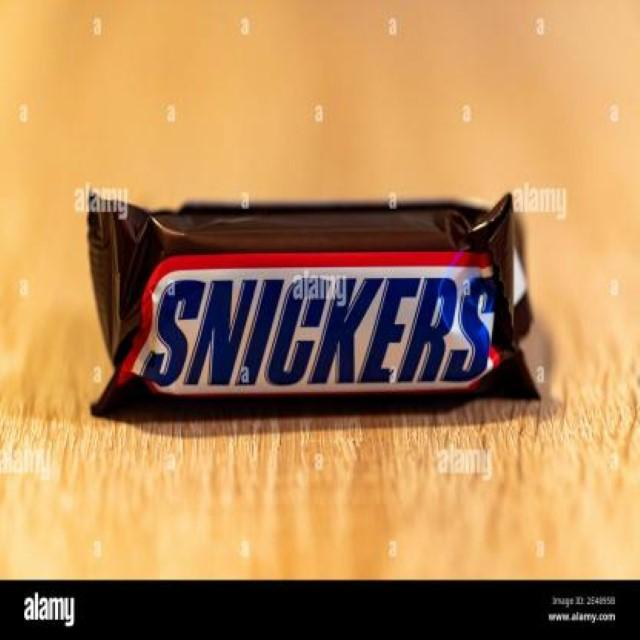snickers_chocolate: (85, 195, 525, 423)
